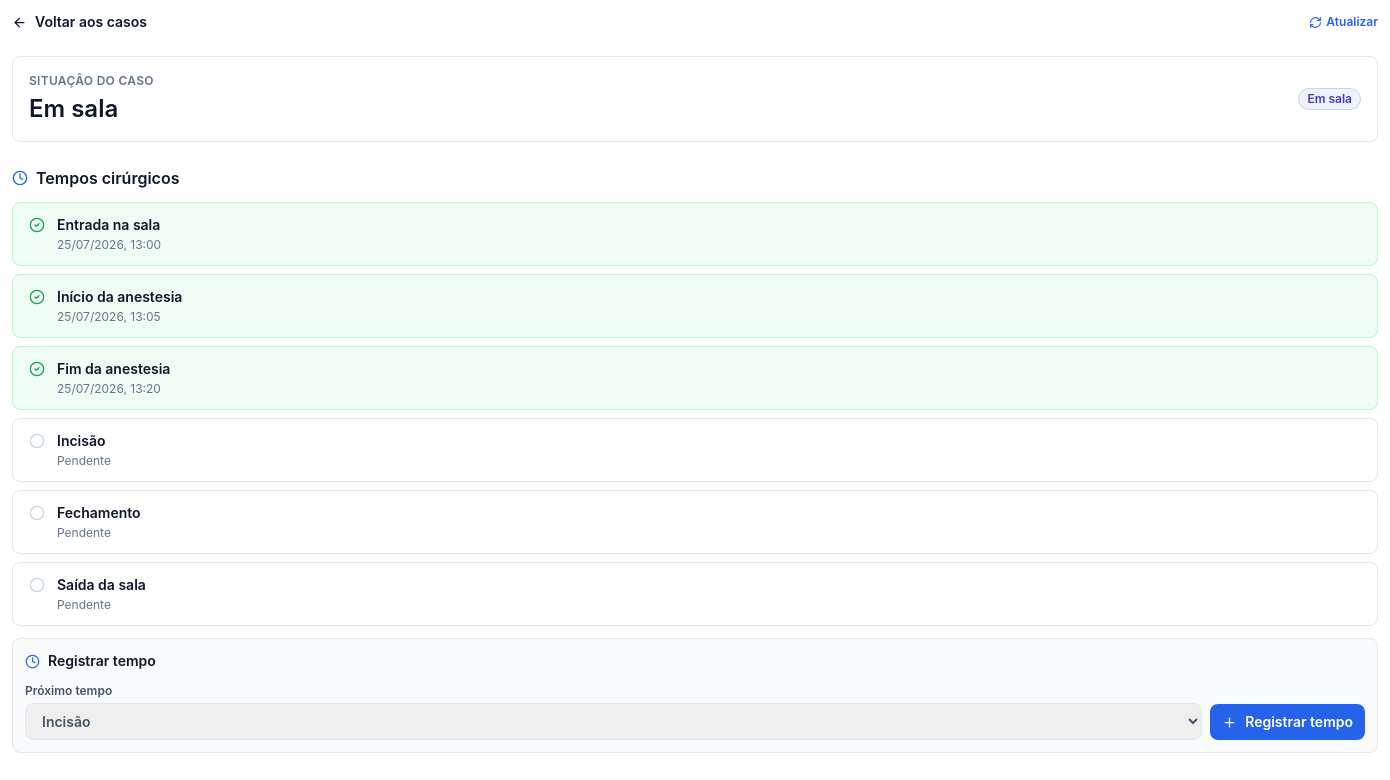
Test: SurgeryIntraopPanel › records the next time and reflects the advanced case status
The width and height of the screenshot is (1390, 780).
Expected: the text "Em sala" below "Situação do caso" is shown, x1=29 y1=94 x2=118 y2=123
// Next un-recorded event is "incisao" (default selection).
Step 1. Click the button "Registrar tempo" → coordinates (1288, 722), box x1=1210 y1=704 x2=1365 y2=740
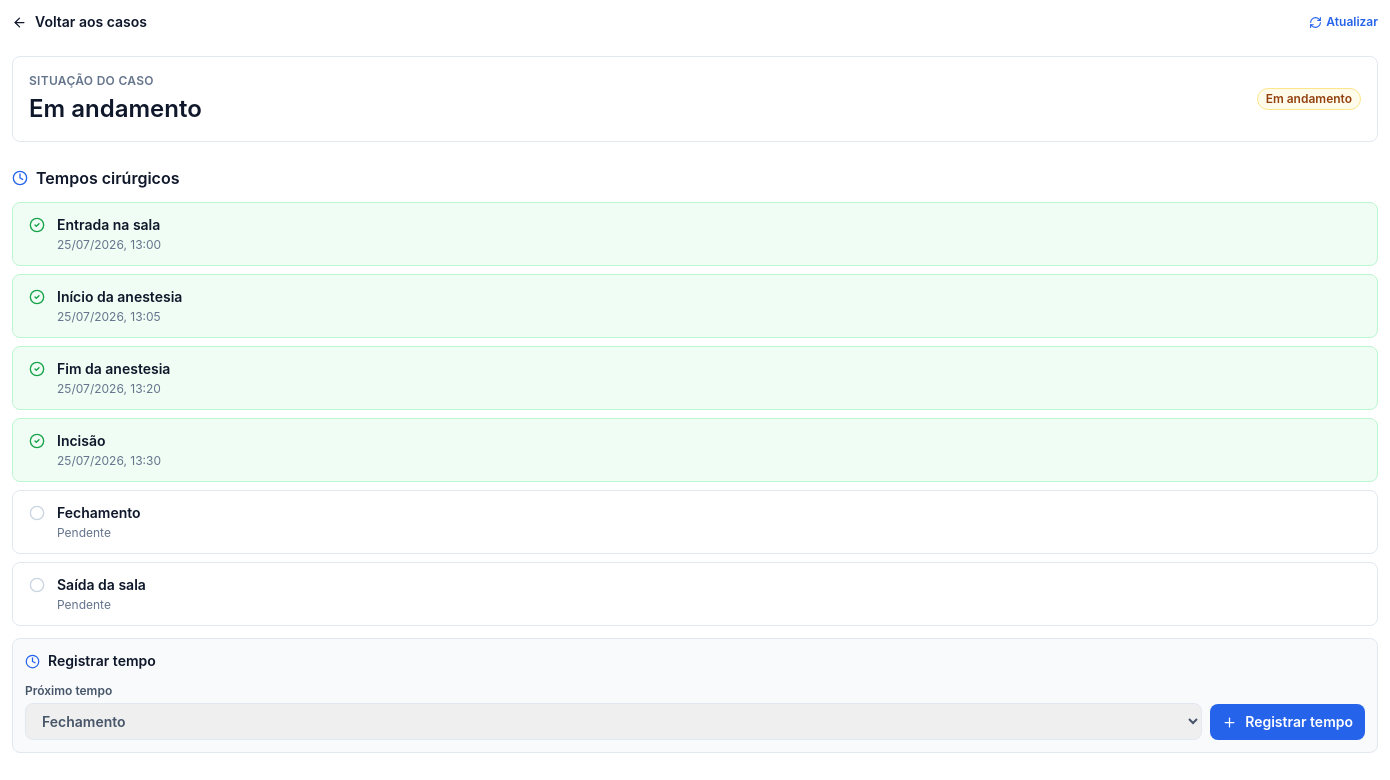
Expected: the text "Em andamento" below "Situação do caso" is shown, x1=29 y1=94 x2=202 y2=123
